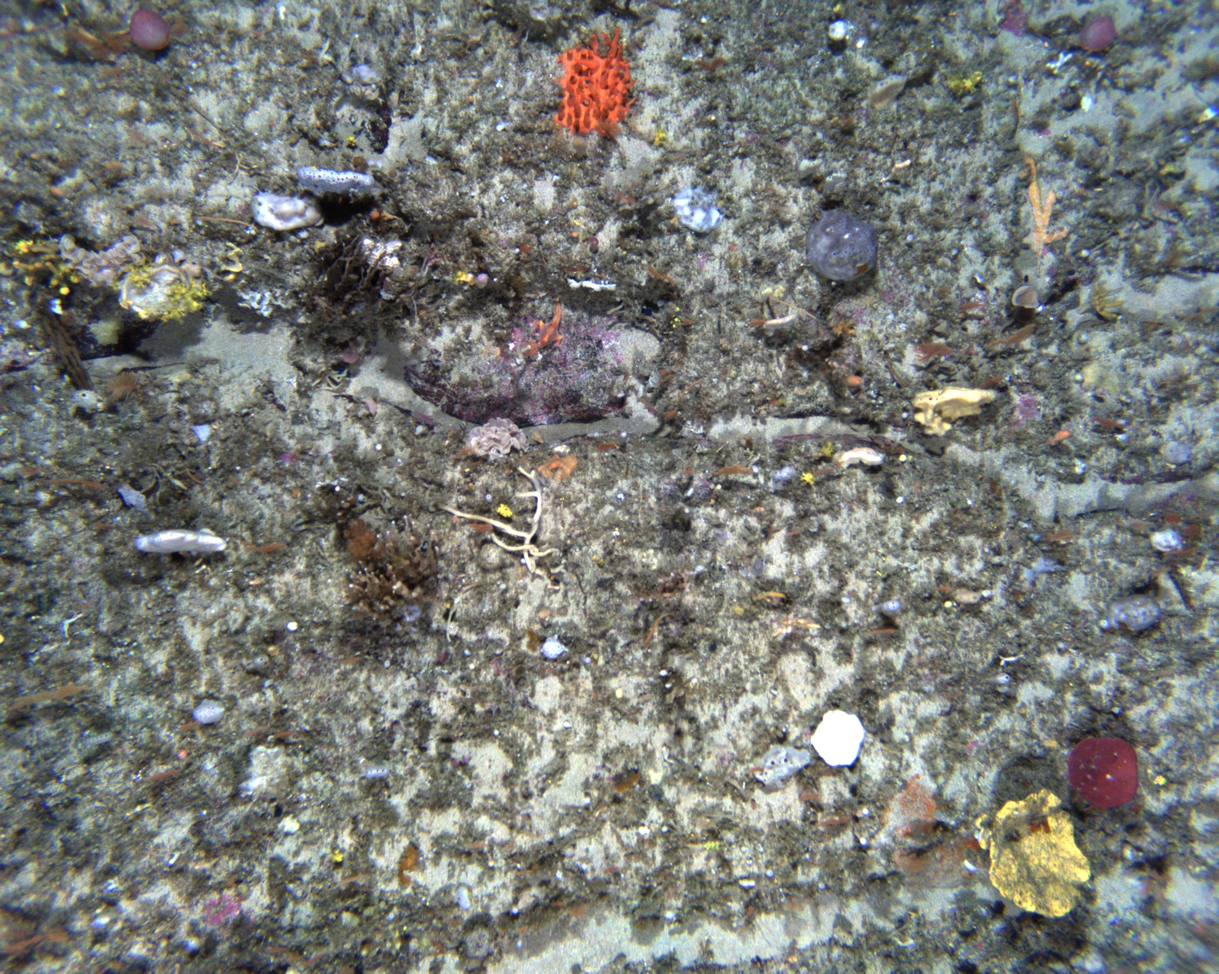Brachionichthyidae: (531, 286, 565, 350)
